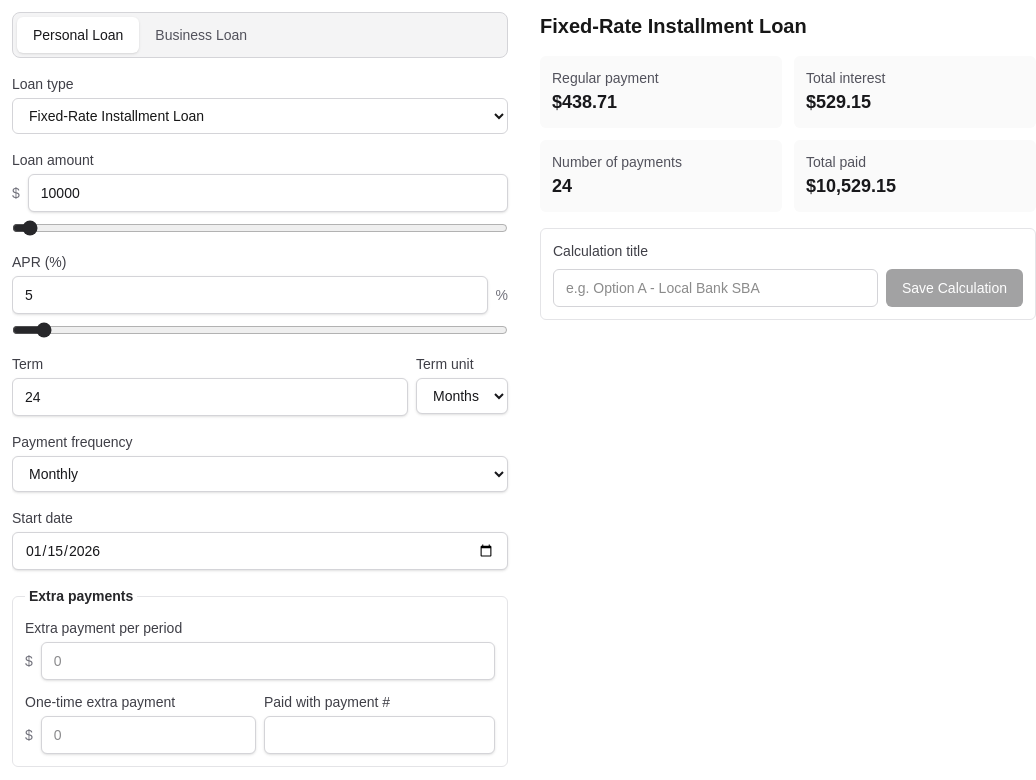
Scenario: Calculator form (REQ-UI-003, REQ-NFR-CODE2) › shows type-specific fields only for the loan types that use them
This screenshot has width=1036, height=780.
Expected: the field labelled "Factor rate" is not shown
Expected: the field labelled "Grace period (months)" is not shown
Click the radio button labelled "Business Loan". click: (201, 35)
box: left=139, top=17, right=263, bottom=53
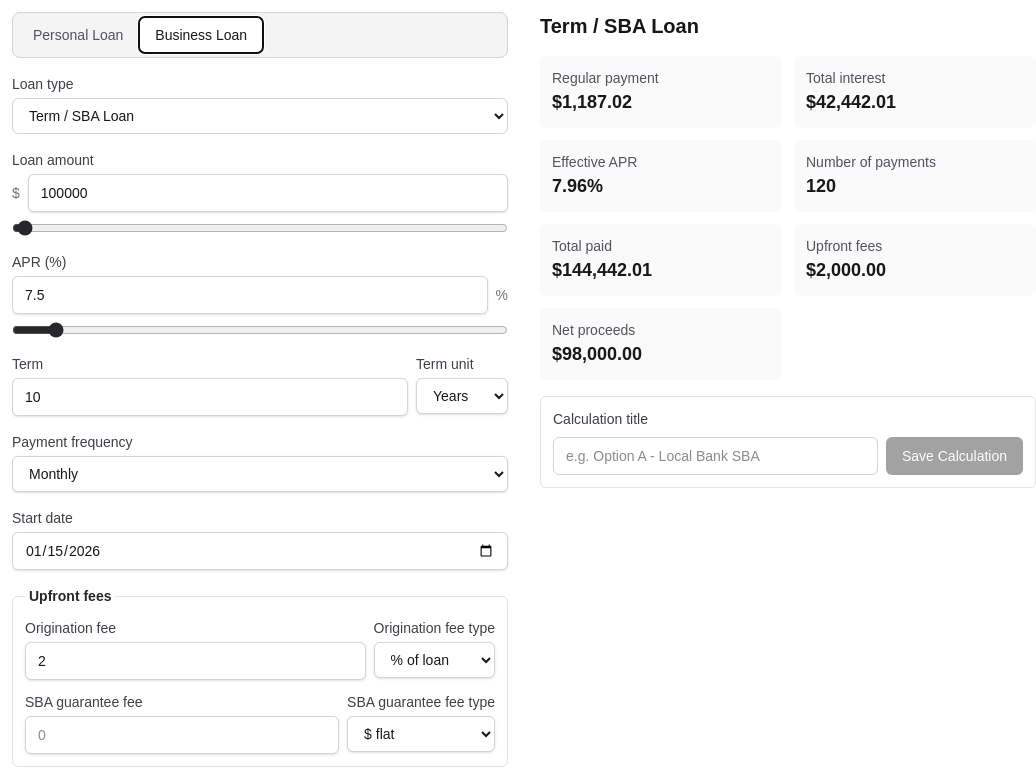
Select "Merchant Cash Advance" in the dropdown labelled "Loan type". click: (260, 116)
box: left=12, top=98, right=508, bottom=134
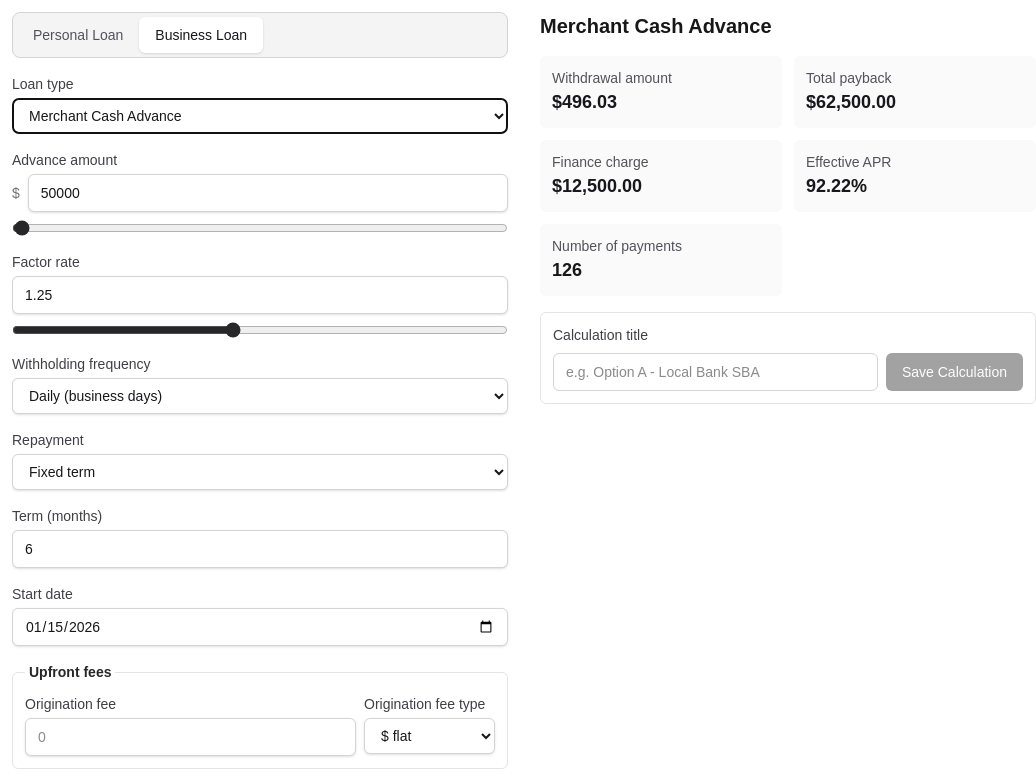
Expected: the label labelled "Extra payment per period" is not shown
Expected: the field labelled "Factor rate" is shown, left=12, top=276, right=508, bottom=314
Expected: the label labelled "APR (%)" is gone
Select "Interest-Only Grace Period Loan" in the dropdown labelled "Loan type". click: (260, 116)
box: left=12, top=98, right=508, bottom=134
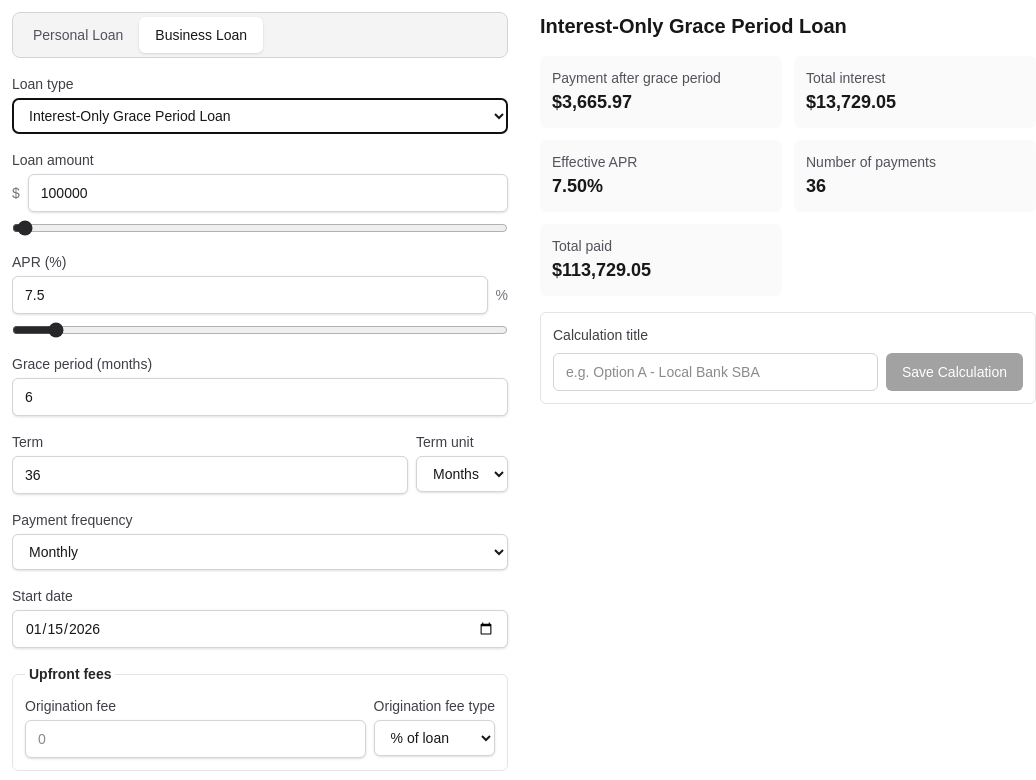
Expected: the field labelled "Grace period (months)" is shown, left=12, top=378, right=508, bottom=416
Expected: the label labelled "Factor rate" is gone
